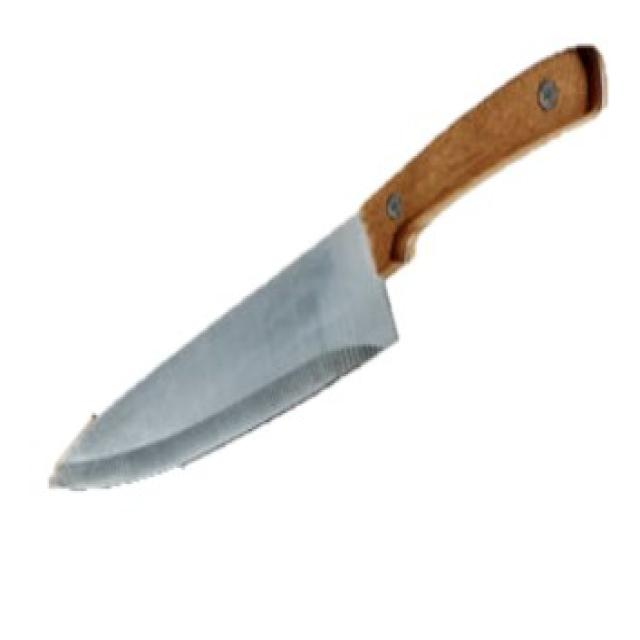knife: (45, 40, 608, 493)
